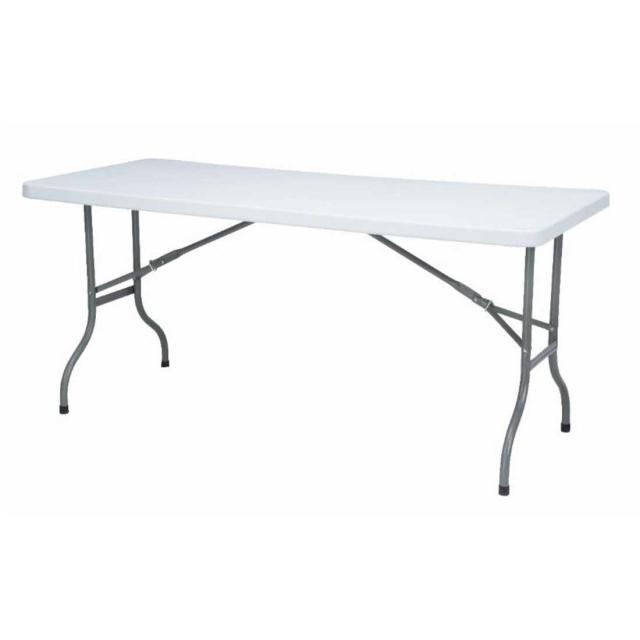Plastic: (21, 158, 610, 497)
